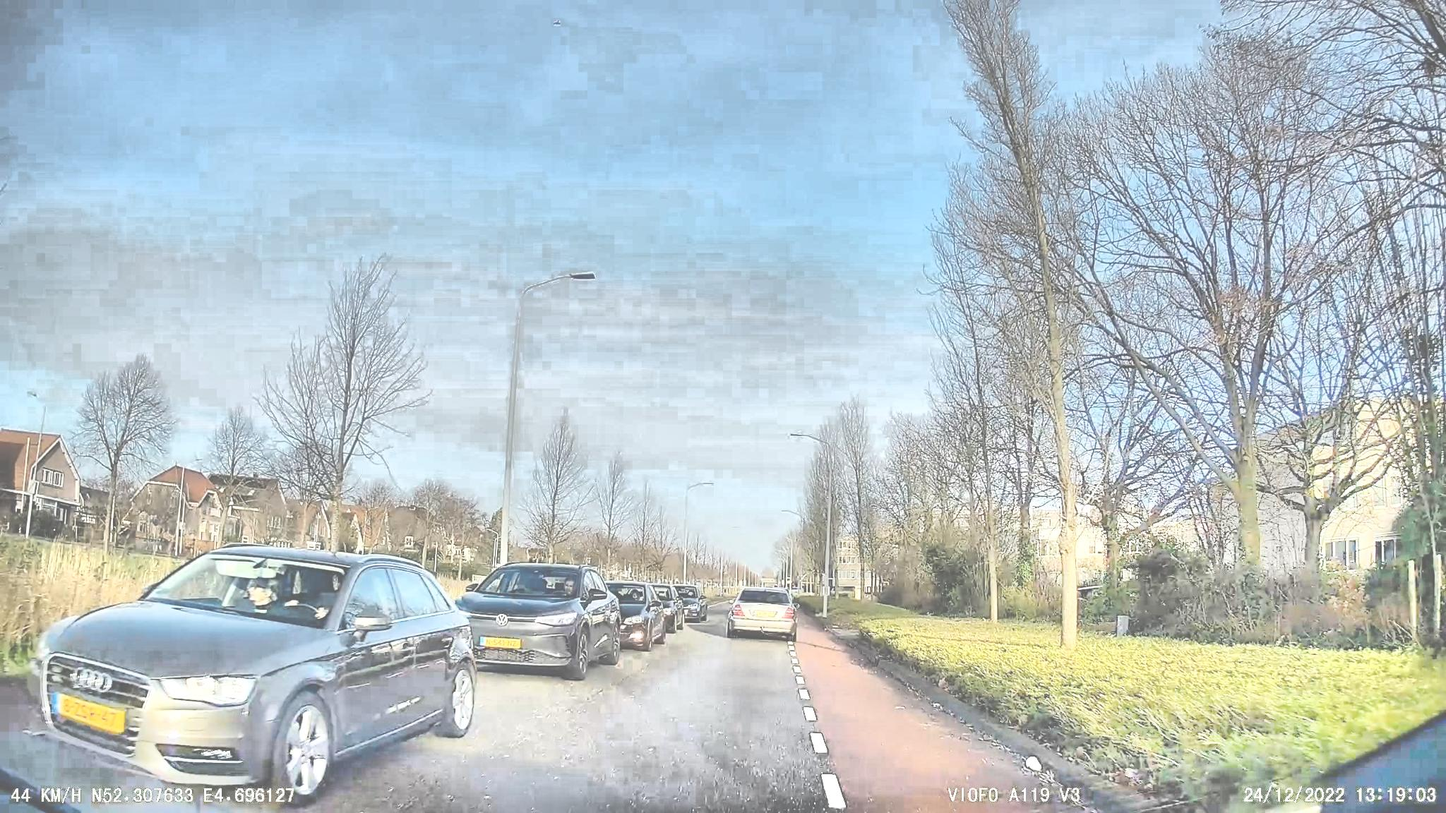Roads: (80, 610, 999, 813)
